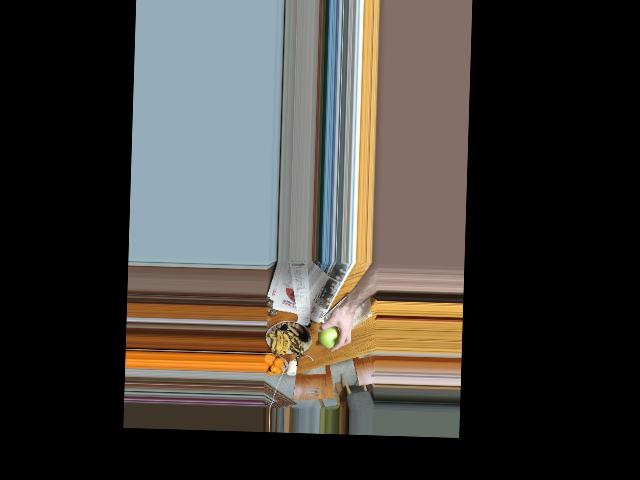apple: (318, 321, 342, 349)
